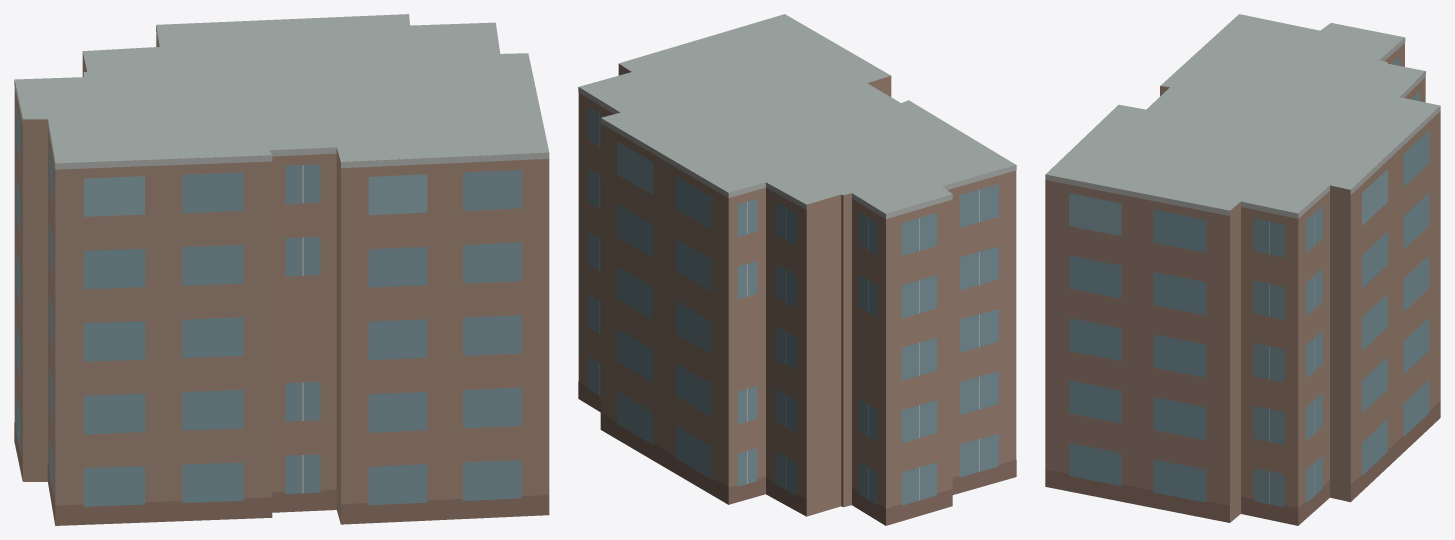
The model's file is survey-upis-32583893.glb.
3 views of the same model, side by side, from view 1: azimuth 30°, elevation 25°; view 2: azimuth 150°, elevation 25°; view 3: azimuth 270°, elevation 25° (orthographic). The views are drawn at different scales.
Parts seen in each view (by area): view 1: survey-upis-32583893.tmp; view 2: survey-upis-32583893.tmp; view 3: survey-upis-32583893.tmp.
Part boxes in pixels (<box>): survey-upis-32583893.tmp: <box>14,14,549,525</box>; survey-upis-32583893.tmp: <box>578,14,1016,525</box>; survey-upis-32583893.tmp: <box>1045,14,1440,525</box>.
Bounding box in the file's own units: 19.47 × 14.2 × 16.29.
